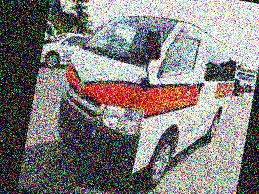van: (49, 0, 246, 194)
